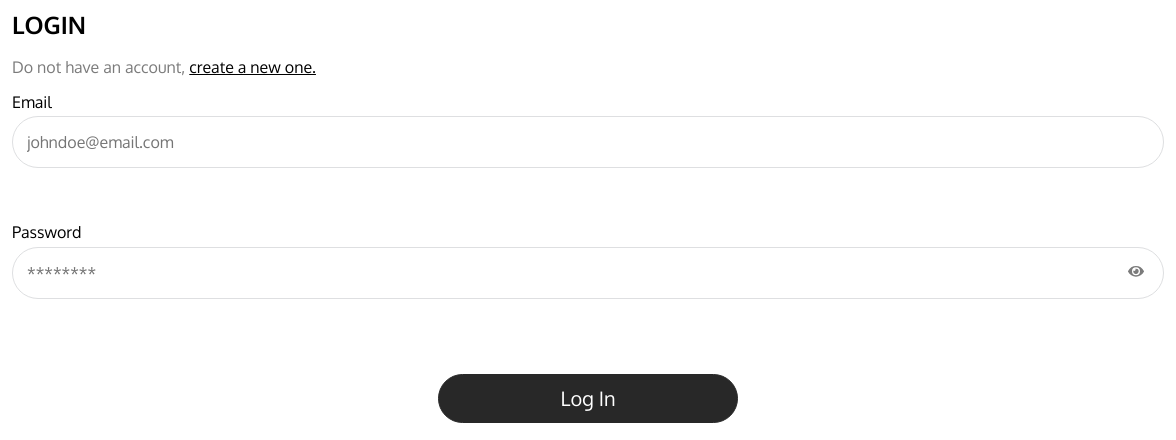
LoginForm › should show error "Password must be at least 8 characters long." for password value "Abcde"
The width and height of the screenshot is (1176, 440).
Step 1. Type "Abcde" into the password field labelled "Password" → (588, 273), box [12,247,1164,299]
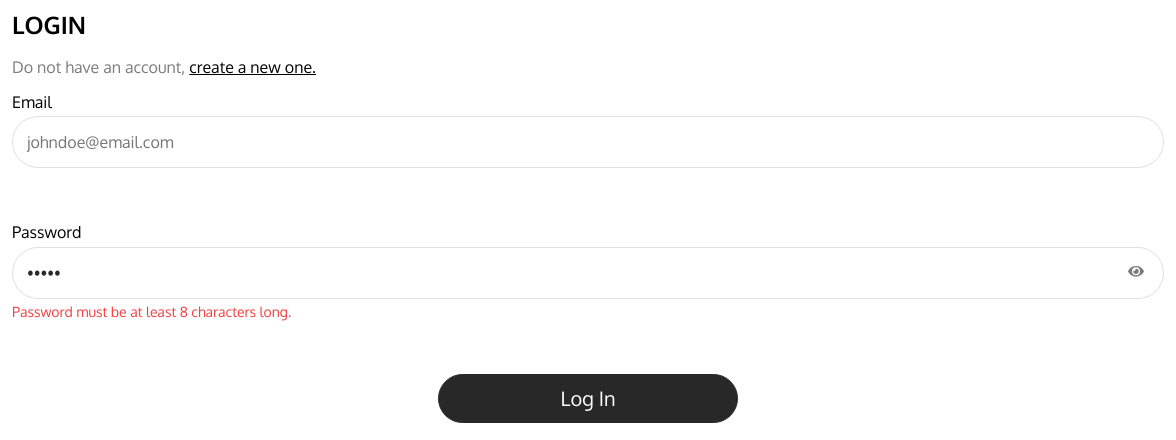
Expected: the text "Password must be at least 8 characters long." is shown, [12,303,291,320]
